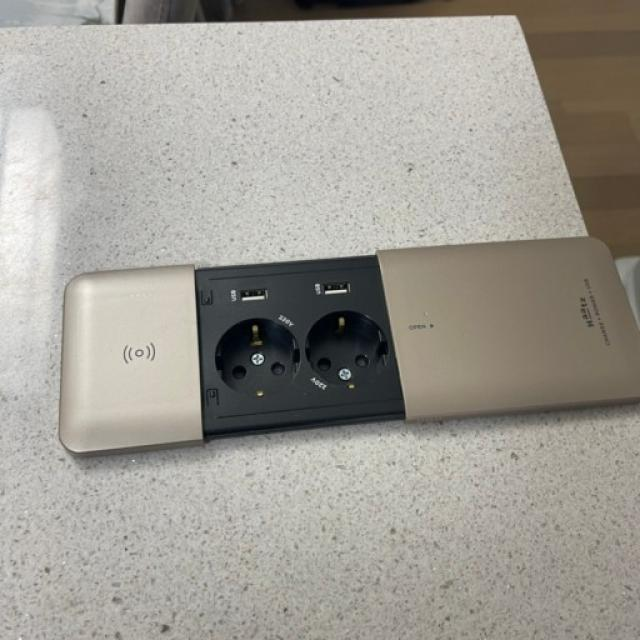typeb: (144, 255, 448, 472)
